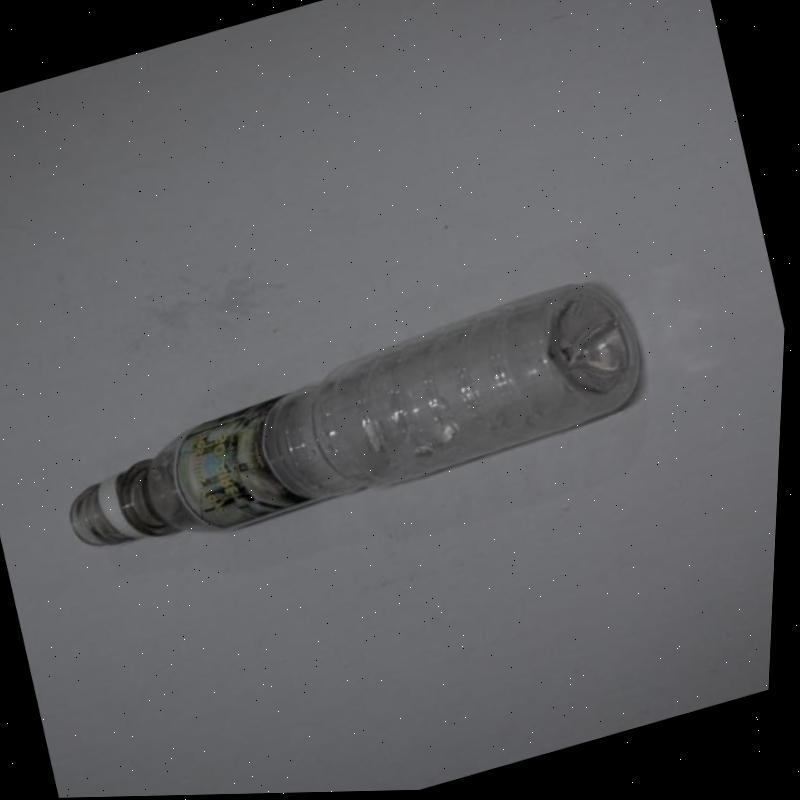botella: (45, 266, 662, 575)
